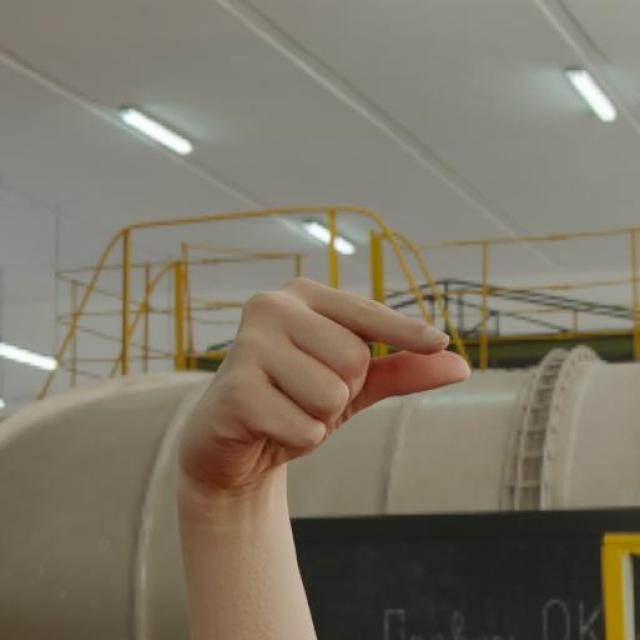G: (171, 271, 476, 500)
